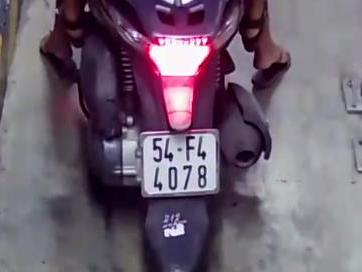num_plate: (142, 131, 222, 194)
